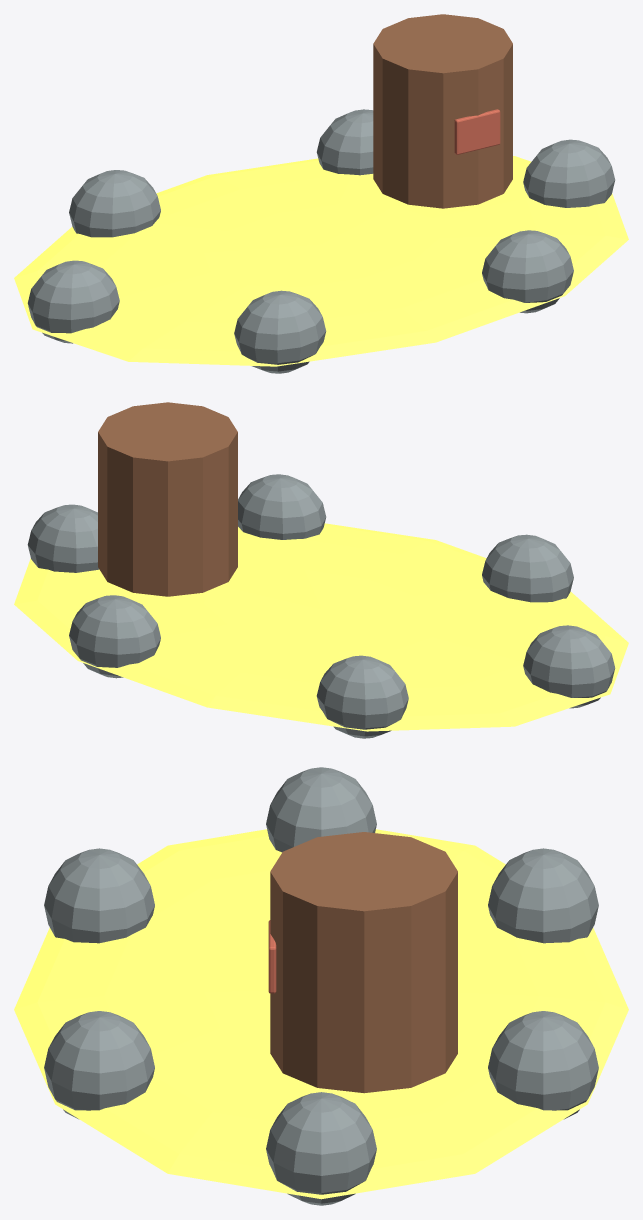
File: pool.glb
3 renders of one model, top to bottom at view 1: azimuth 30°, elevation 25°; view 2: azimuth 150°, elevation 25°; view 3: azimuth 270°, elevation 25°, orthographic. The views are drawn at different scales.
Visible parts, largest first — view 1: Contaminated puddle, Leaking drum, Puddle rock.004, Puddle rock.005, Puddle rock.003, Puddle rock, Puddle rock.002, Puddle rock.001, Hazard drum band; view 2: Contaminated puddle, Leaking drum, Puddle rock.002, Puddle rock.001, Puddle rock.003, Puddle rock.004, Puddle rock.005, Puddle rock; view 3: Contaminated puddle, Leaking drum, Puddle rock, Puddle rock.001, Puddle rock.005, Puddle rock.002, Puddle rock.004, Puddle rock.003.
Part boxes in pixels (left/top/right/bottom): Contaminated puddle: left=14, top=156, right=628, bottom=366; Leaking drum: left=373, top=14, right=512, bottom=208; Puddle rock.004: left=234, top=290, right=326, bottom=373; Puddle rock.005: left=482, top=230, right=573, bottom=313; Puddle rock.003: left=27, top=260, right=119, bottom=343; Puddle rock: left=523, top=139, right=615, bottom=207; Puddle rock.002: left=69, top=170, right=160, bottom=237; Puddle rock.001: left=316, top=109, right=373, bottom=175; Hazard drum band: left=454, top=109, right=500, bottom=154; Contaminated puddle: left=14, top=523, right=628, bottom=731; Leaking drum: left=98, top=402, right=237, bottom=596; Puddle rock.002: left=316, top=655, right=408, bottom=738; Puddle rock.001: left=69, top=595, right=160, bottom=678; Puddle rock.003: left=523, top=625, right=615, bottom=708; Puddle rock.004: left=482, top=534, right=573, bottom=602; Puddle rock.005: left=238, top=474, right=326, bottom=539; Puddle rock: left=27, top=504, right=98, bottom=572; Contaminated puddle: left=14, top=829, right=628, bottom=1199; Leaking drum: left=270, top=832, right=457, bottom=1093; Puddle rock: left=266, top=1092, right=376, bottom=1205; Puddle rock.001: left=488, top=1011, right=598, bottom=1119; Puddle rock.005: left=44, top=1011, right=154, bottom=1119; Puddle rock.002: left=488, top=848, right=598, bottom=943; Puddle rock.004: left=44, top=848, right=154, bottom=943; Puddle rock.003: left=266, top=767, right=376, bottom=852.
Size of the model in its own units: 2.1 by 0.66 by 1.44.
